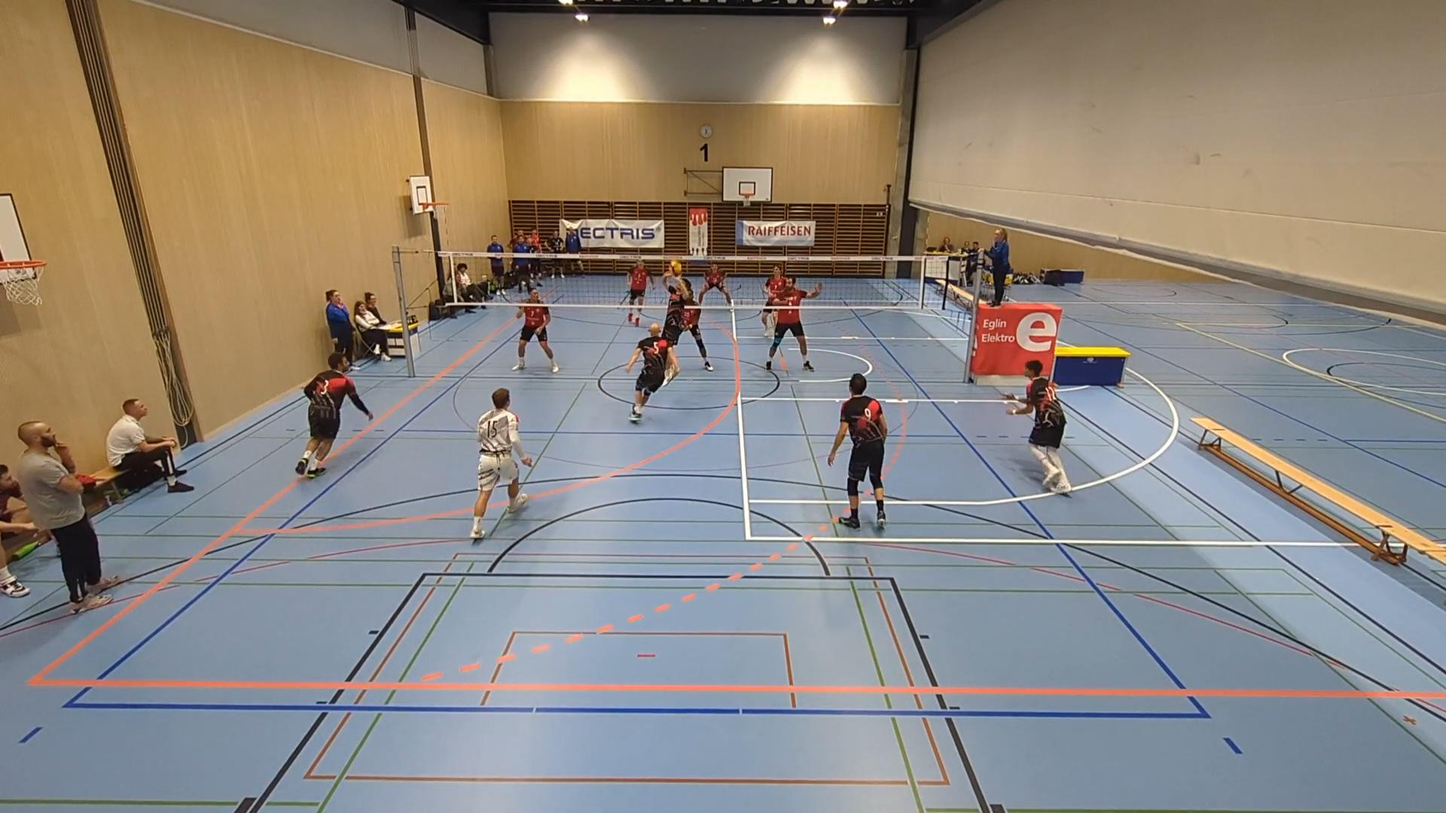alzata: (661, 265, 691, 367)
